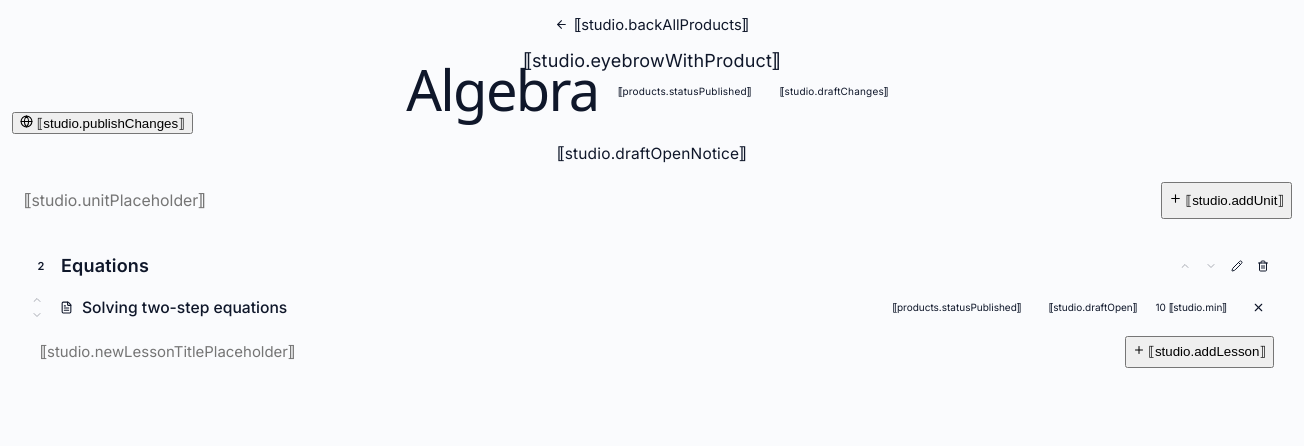
it: Publish changes, refused › falls back to the server's own message when it isn't about unready lessons
Click the button "⟦studio.publishChanges⟧" at (102, 123), box [12,112,193,134]
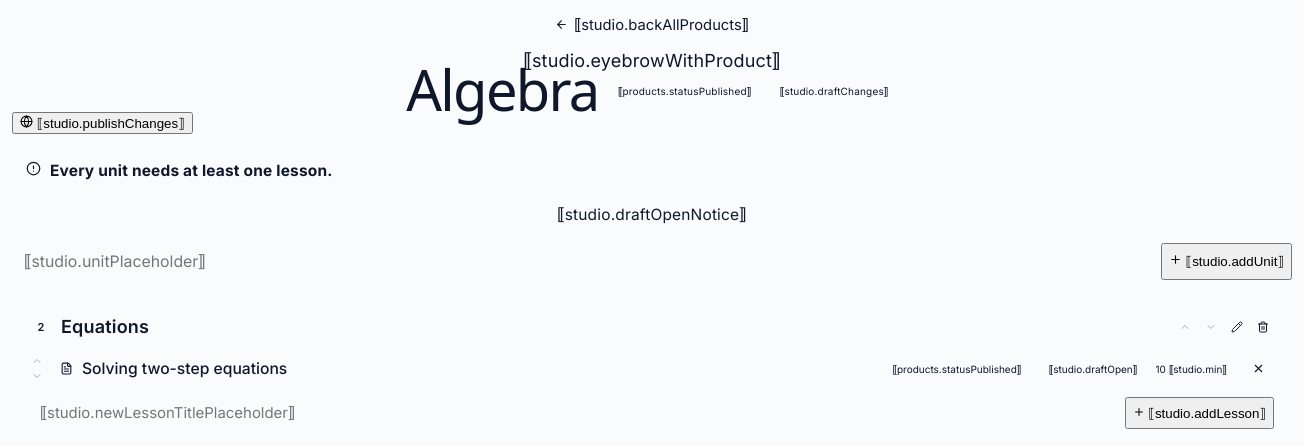
Now the message reads "Every unit needs at least one lesson.", box [50,161,333,180]
